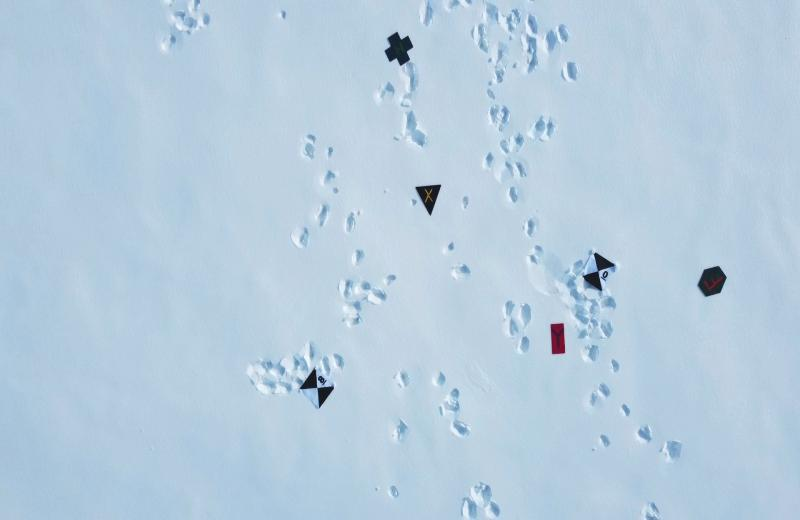Cross: (382, 31, 418, 67)
Hexagon: (694, 264, 730, 302)
Rectangle: (546, 320, 570, 361)
Triangle: (412, 181, 443, 218)
